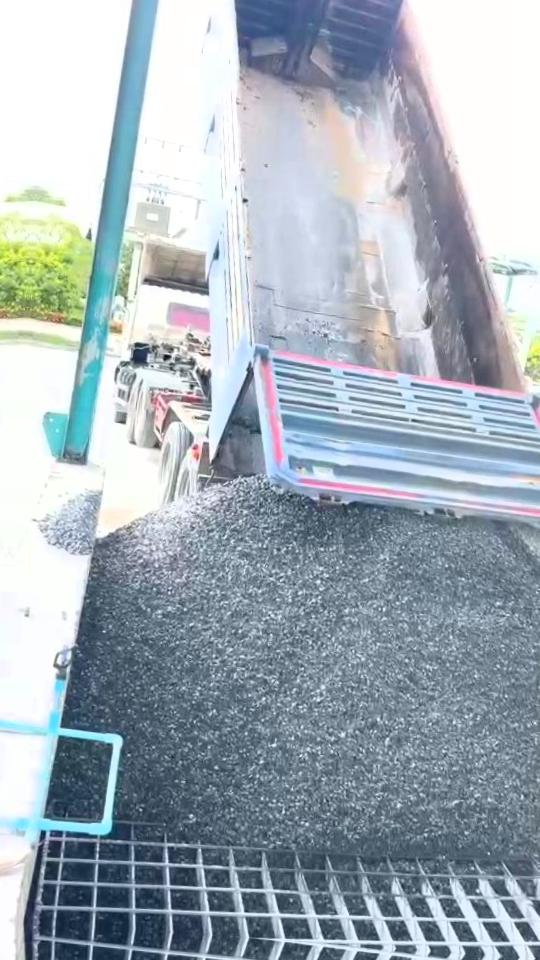gravel: (65, 479, 540, 856), (51, 741, 105, 815), (38, 490, 100, 554), (517, 528, 540, 609)
